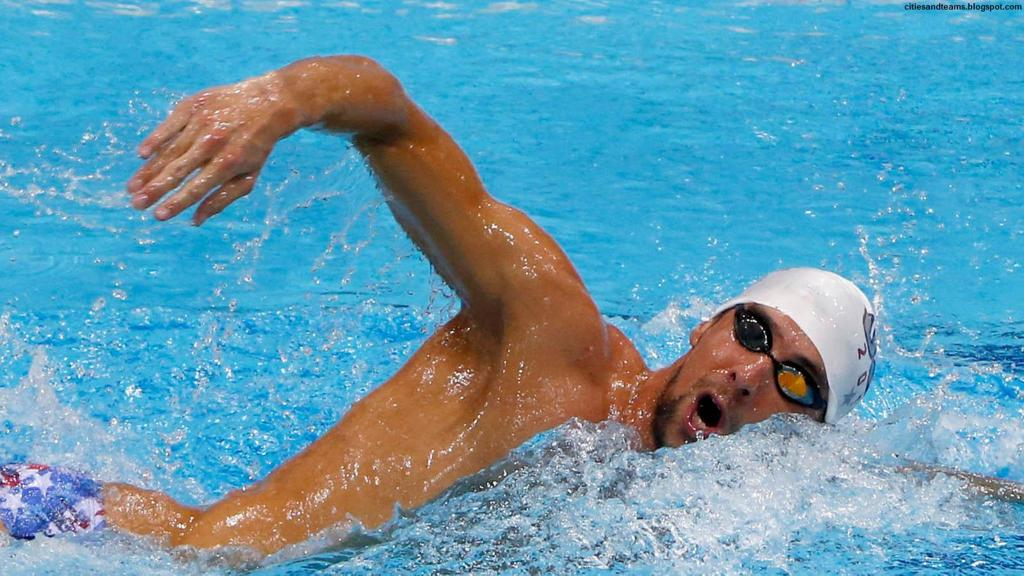face: (668, 310, 810, 454)
